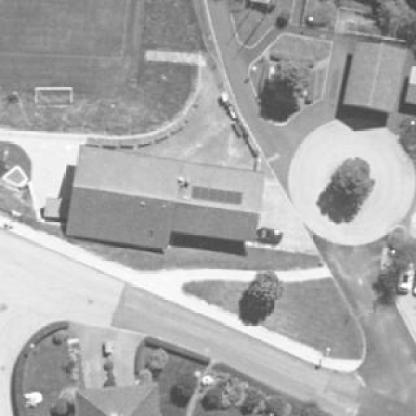solar-pv-panel: (191, 186, 243, 205)
